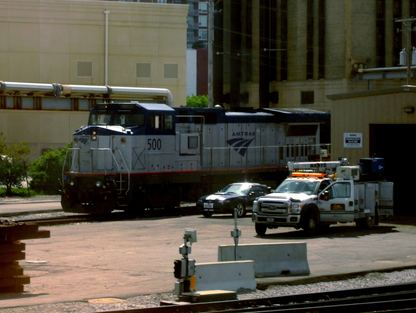car: (196, 183, 274, 218)
truck: (255, 169, 383, 237)
